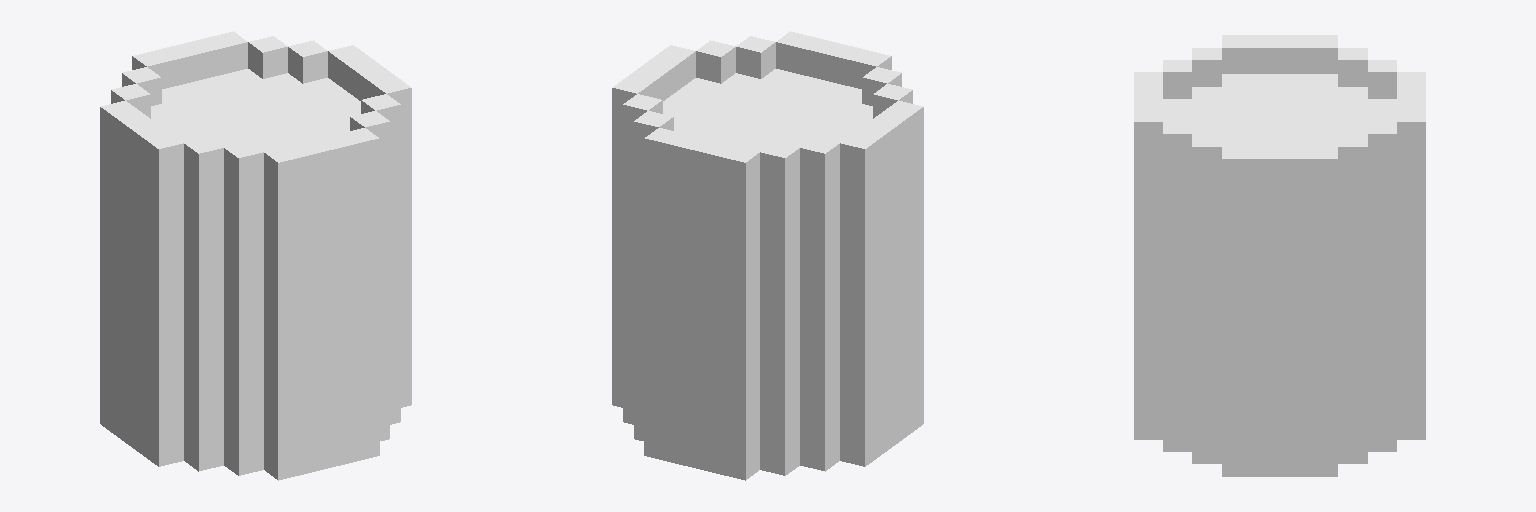
The model's file is bochka.obj.
3 views of the same model, side by side, from view 1: azimuth 30°, elevation 25°; view 2: azimuth 150°, elevation 25°; view 3: azimuth 270°, elevation 25° (orthographic).
Visible parts, largest first — view 1: object 1; view 2: object 1; view 3: object 1.
Boxes of the visible parts, x1=… form: object 1: x1=100, y1=31, x2=411, y2=480; object 1: x1=612, y1=31, x2=923, y2=480; object 1: x1=1134, y1=35, x2=1425, y2=476.
Bounding box in the file's own units: 1 × 1.2 × 1.